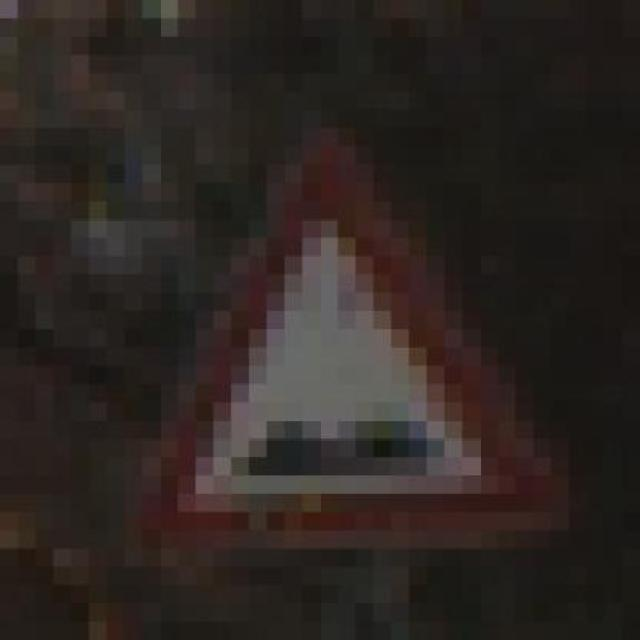Uneven Road: (125, 110, 569, 567)
